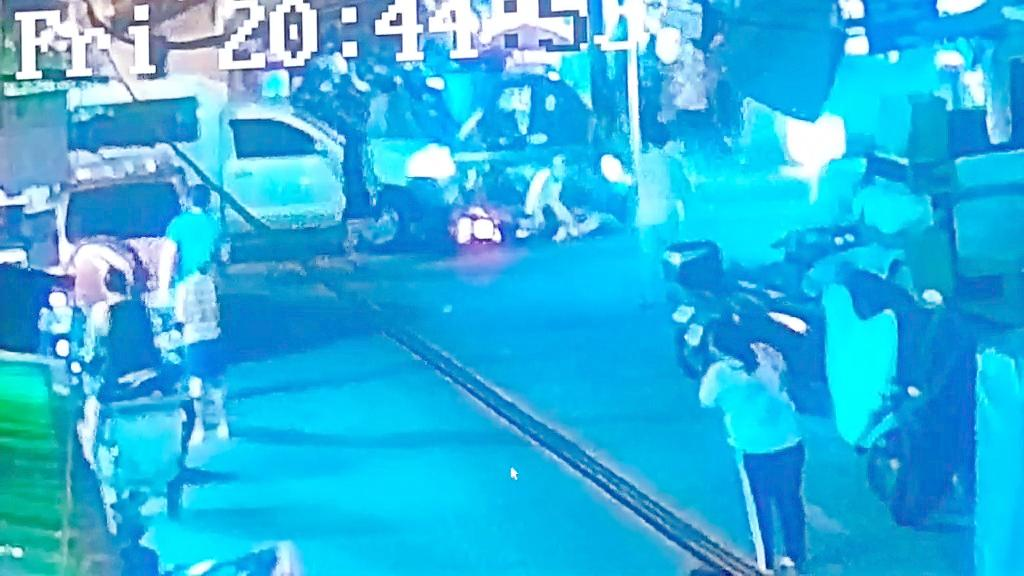Car: (64, 65, 472, 261), (26, 139, 244, 325)
Major Accident: (66, 49, 718, 260)
Motor: (414, 114, 691, 275), (630, 207, 857, 395)
